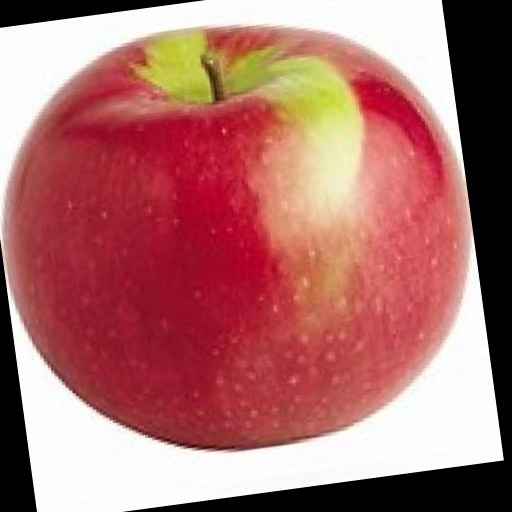fruit: (4, 28, 467, 448)
